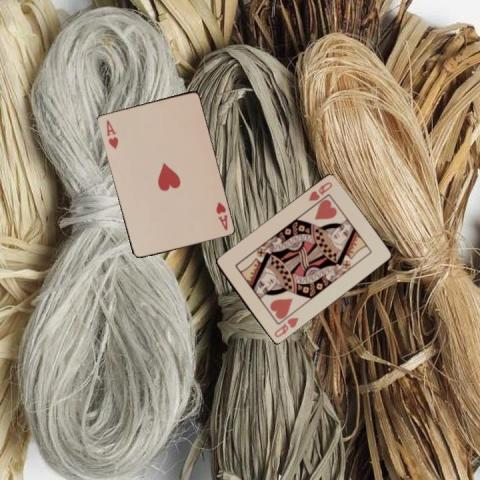Ah: (103, 117, 119, 150), (212, 200, 228, 232)
Qh: (271, 314, 300, 339), (305, 178, 334, 202)
